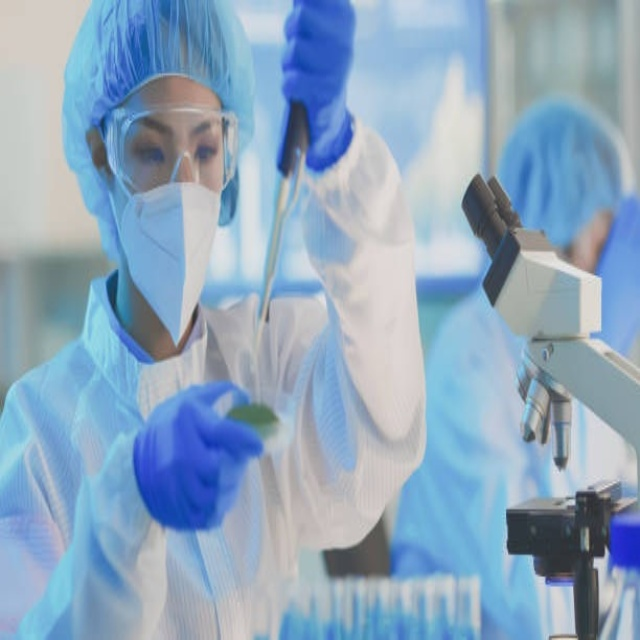Gafas: (105, 104, 240, 195)
Guantes: (133, 379, 267, 534), (279, 1, 356, 175)
Mascara: (108, 165, 223, 347)
